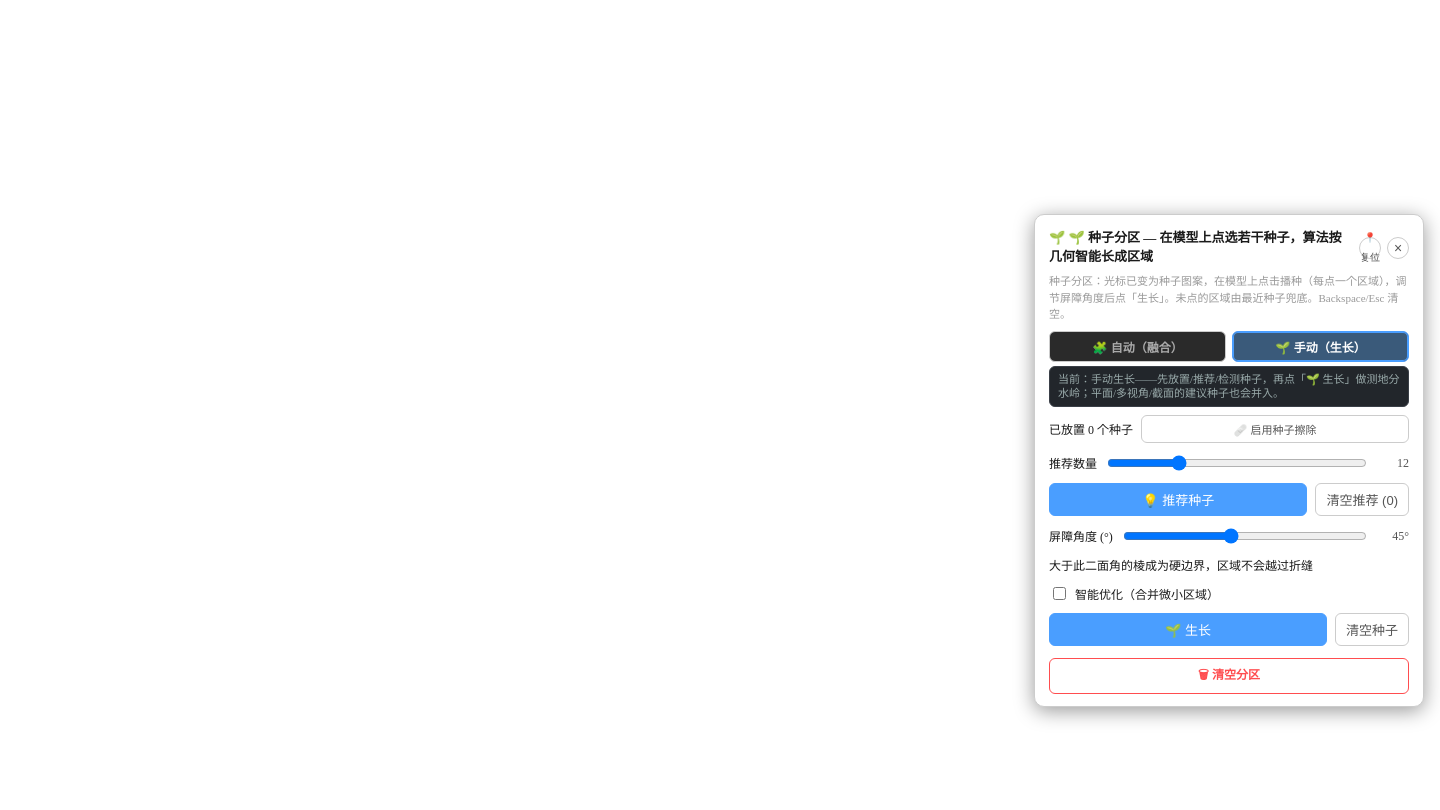
Test case: SeedPanel.onResetAll — issue #28 in-app confirm › 取消确认 → 不发任何命令，对话框关闭
Click the button "🗑 清空分区" at (1229, 676), box [1049,658,1409,694]
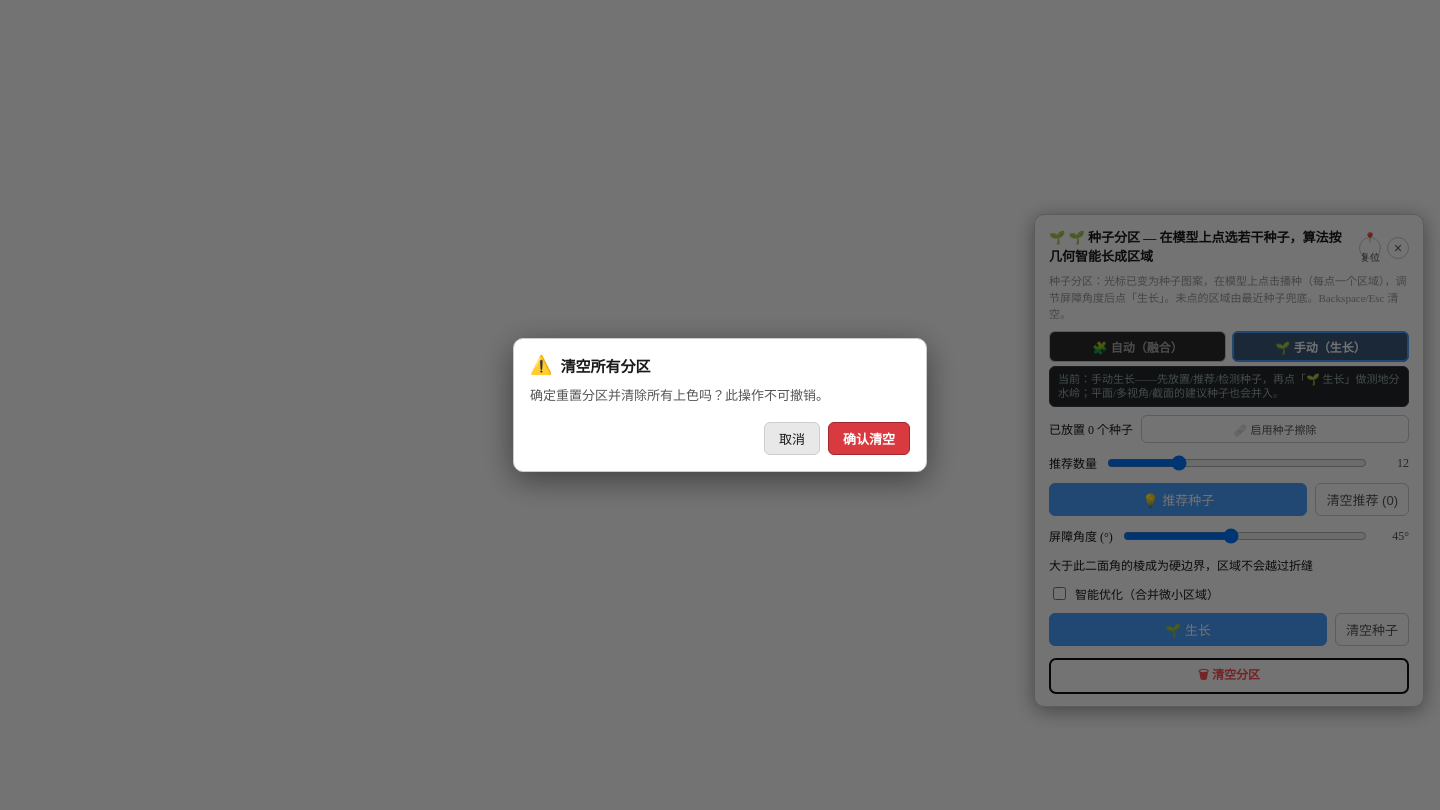
Now the text "清空所有分区" is shown, box [560,355,650,376]
Click the button "取消" at (792, 439), box [764,422,820,455]
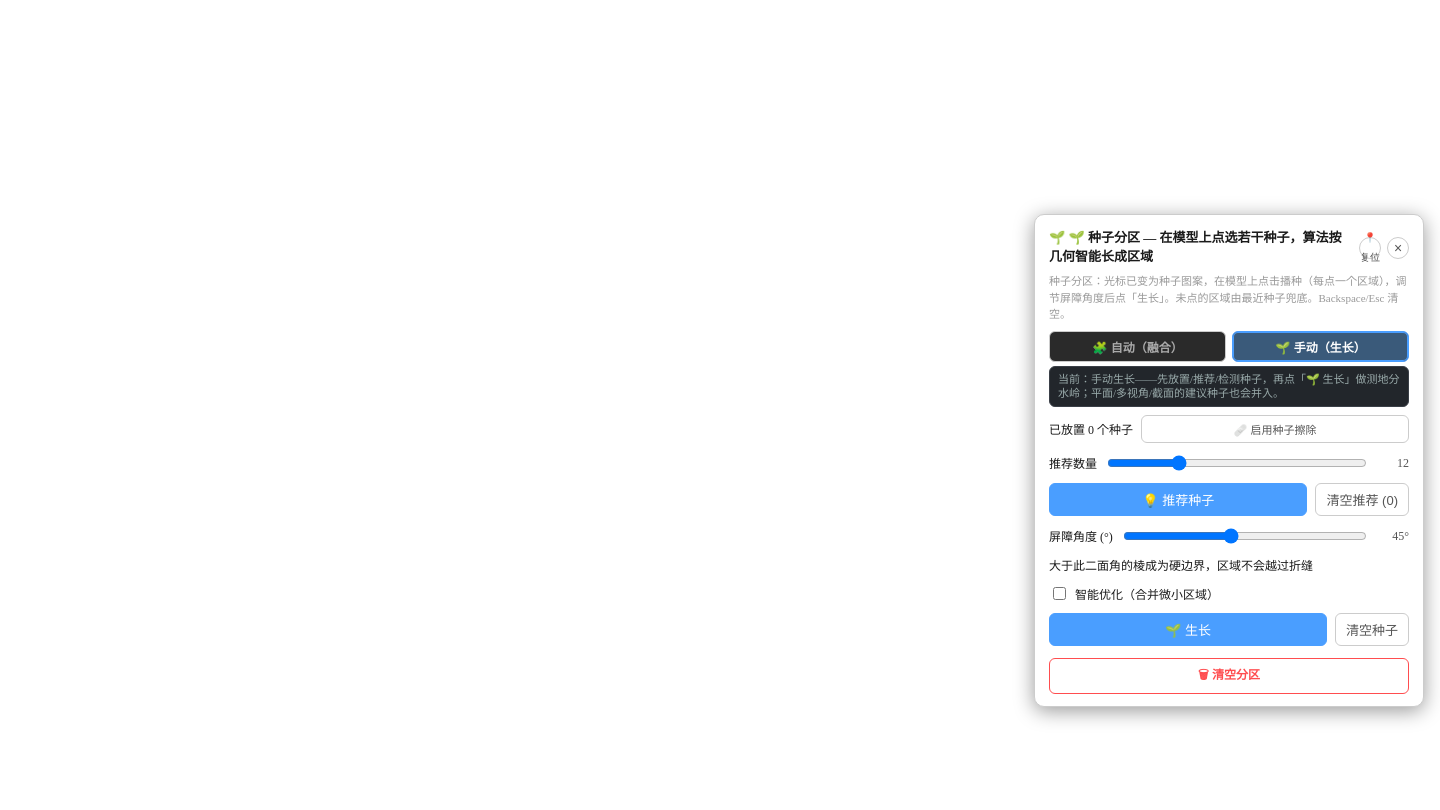
Now the text "清空所有分区" is gone
